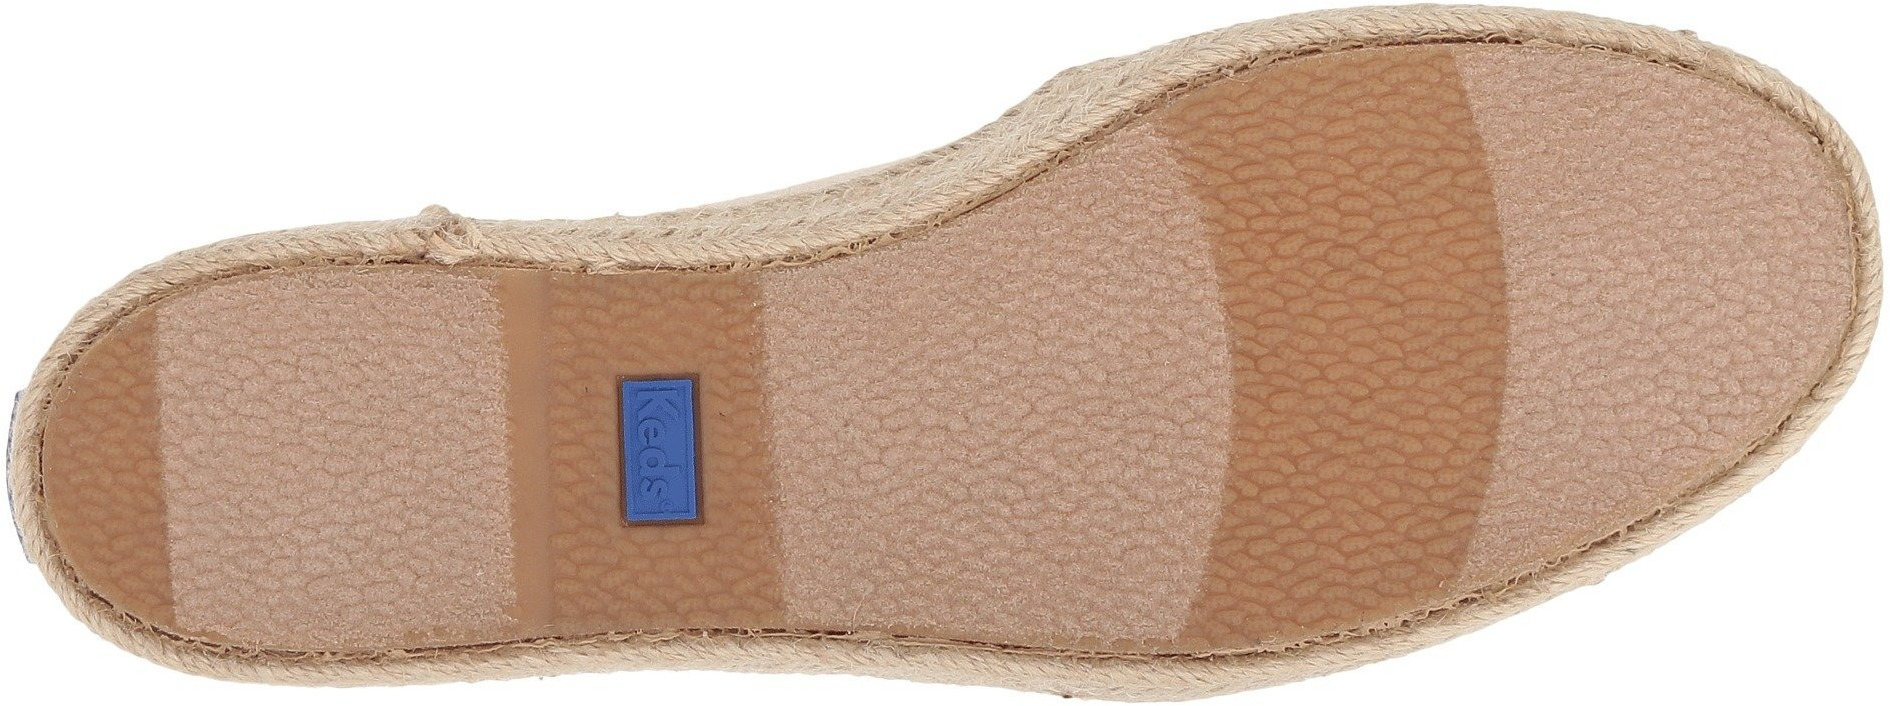other: (1397, 71, 1731, 445), (698, 280, 1039, 617), (1052, 177, 1389, 488), (316, 317, 589, 619), (82, 367, 287, 551)
quad: (614, 363, 714, 533)
text: (629, 392, 692, 451), (630, 461, 680, 514)
